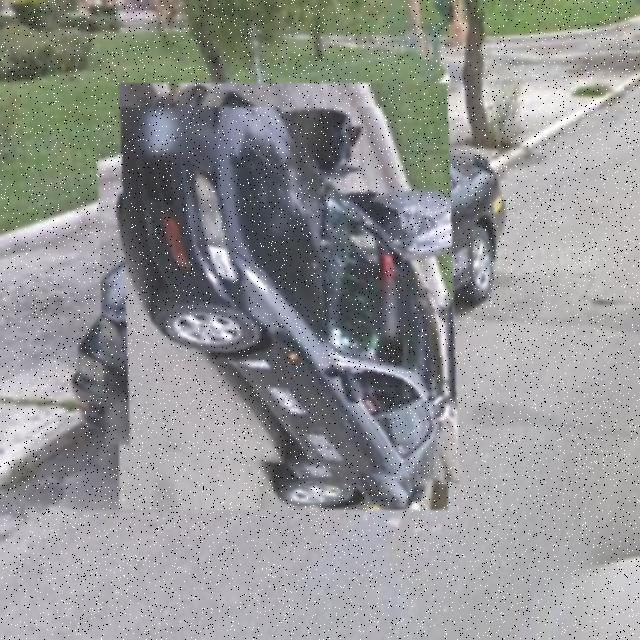car: (95, 108, 474, 487)
